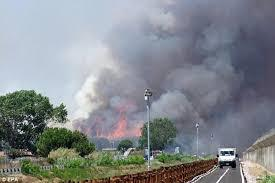fire: (82, 112, 143, 137)
yanwu: (72, 1, 274, 140)
